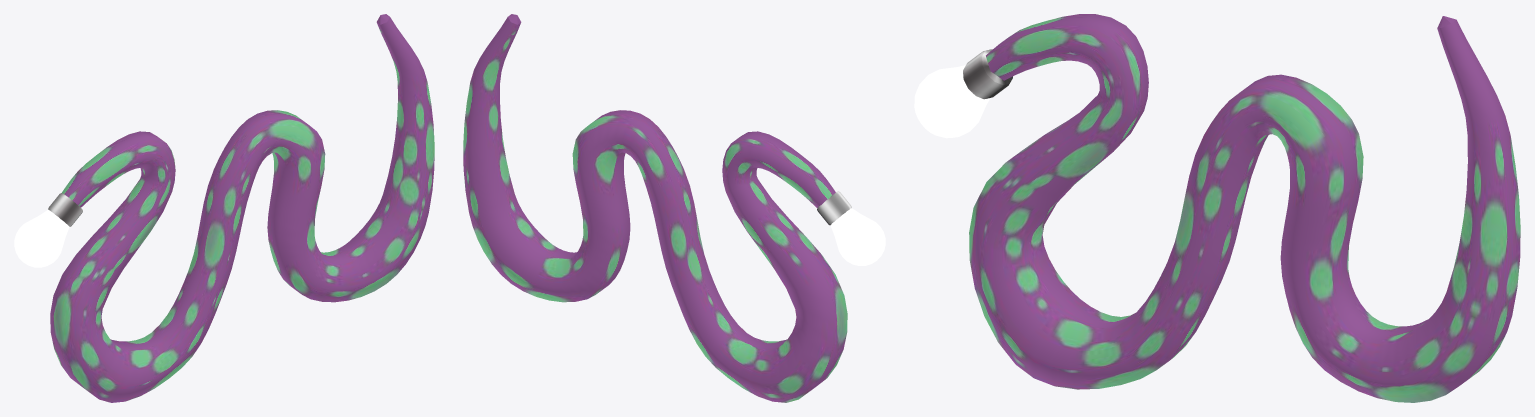
The model's file is Snake-W-02.glb.
3 views of the same model, side by side, from view 1: azimuth 30°, elevation 25°; view 2: azimuth 150°, elevation 25°; view 3: azimuth 330°, elevation 25° (orthographic). The views are drawn at different scales.
Visible parts, largest first — view 1: snake, bulb, bulb_holder; view 2: snake, bulb, bulb_holder; view 3: snake, bulb, bulb_holder.
Boxes of the visible parts, x1,y1,x2,y2 form: snake: (50, 14, 434, 402); bulb: (14, 209, 69, 267); bulb_holder: (48, 193, 82, 226); snake: (463, 14, 847, 402); bulb: (830, 208, 885, 265); bulb_holder: (817, 191, 851, 225); snake: (969, 14, 1520, 402); bulb: (914, 65, 990, 138); bulb_holder: (963, 49, 1012, 99).
Size of the model in its own units: 2.28 by 1.67 by 0.309.
Materials: 2 (1 with a texture image).
